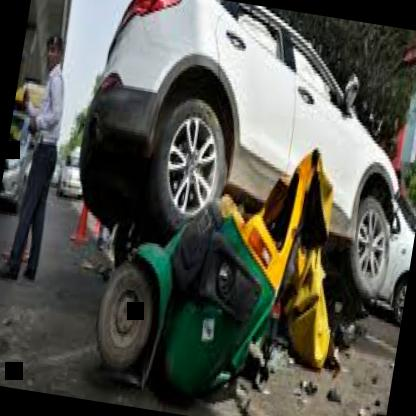accident: (75, 24, 416, 416)
